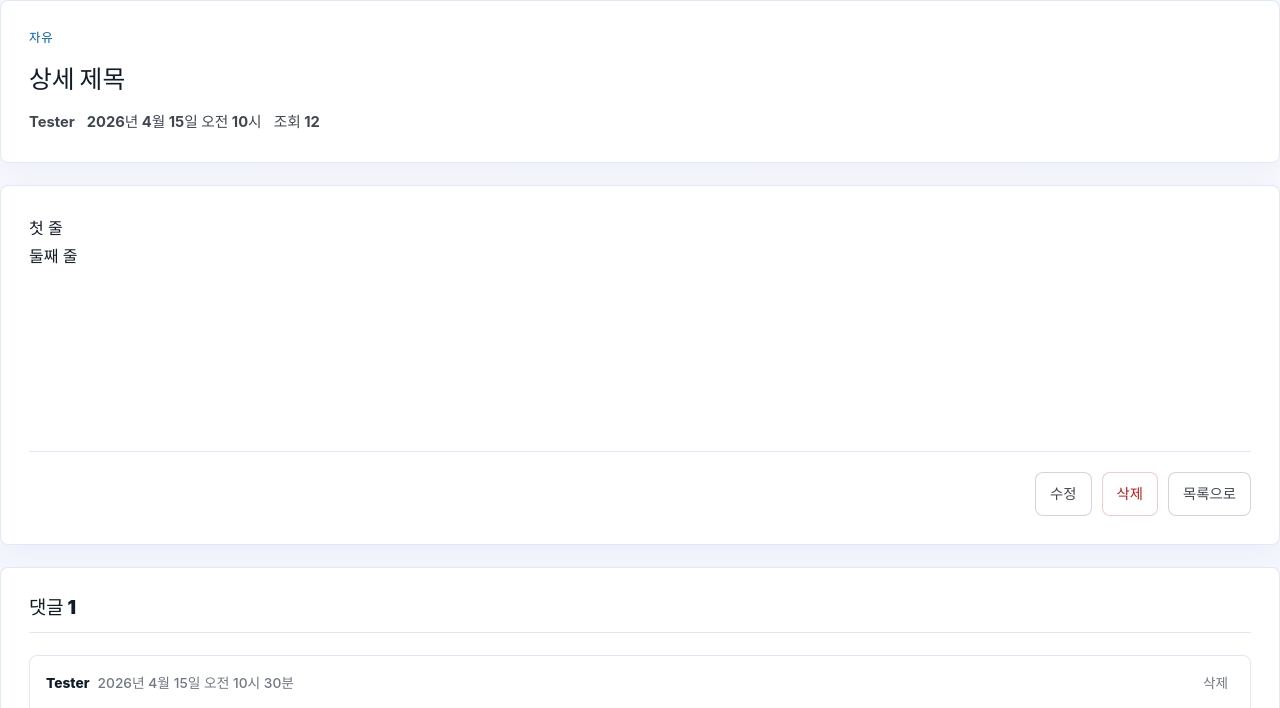
Test: CommunityDetailPage › should_delete_comment_when_author_confirms
The image size is (1280, 708).
Click the button with aria-label "댓글 삭제" at coordinates (1216, 683), box [1197, 672, 1234, 694]
(page scrolled)
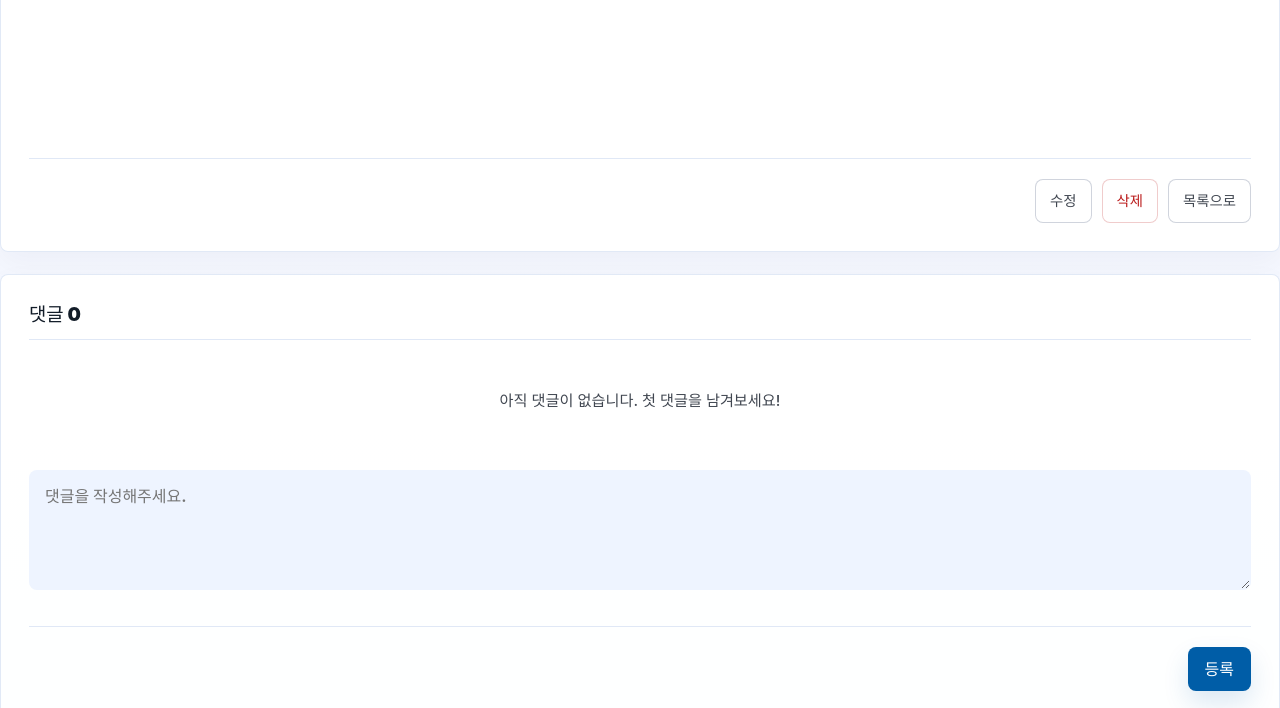
Expected: the text "아직 댓글이 없습니다. 첫 댓글을 남겨보세요!" is shown, [500, 391, 780, 410]
